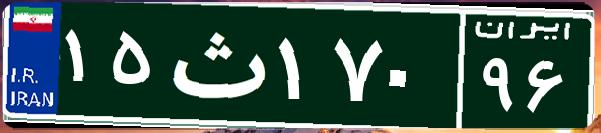0: (385, 28, 445, 110)
1: (273, 28, 330, 110), (57, 26, 110, 107)
5: (110, 28, 158, 105)
6: (525, 38, 570, 115)
7: (330, 28, 385, 110)
9: (475, 38, 525, 113)
ث: (158, 15, 273, 115)
